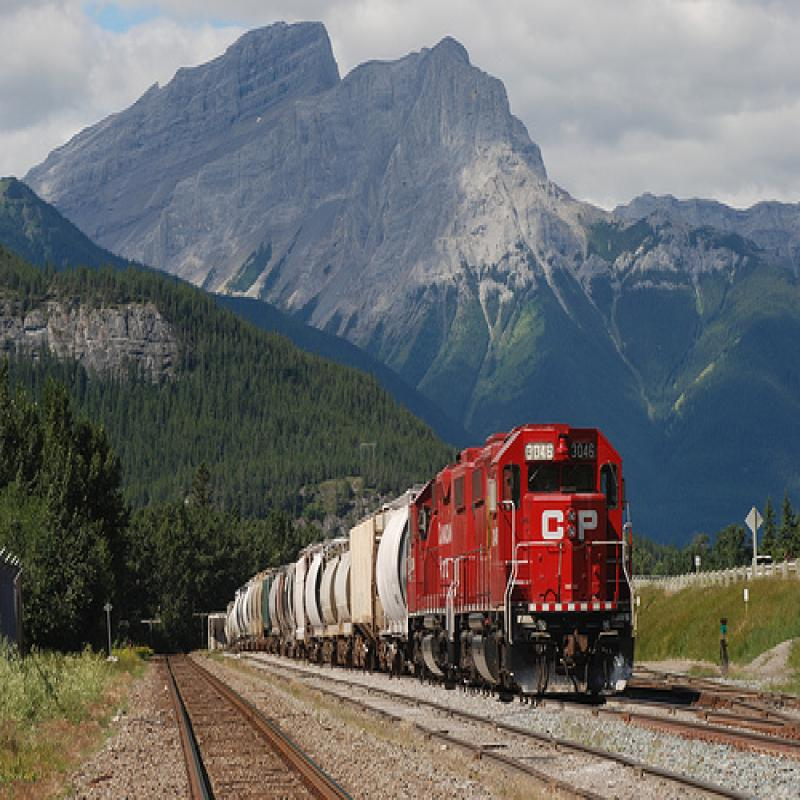train: (231, 425, 641, 708)
